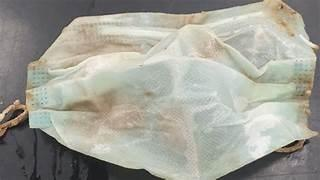Mask: (27, 1, 315, 179), (27, 56, 314, 179), (35, 0, 315, 82), (146, 25, 314, 83)
